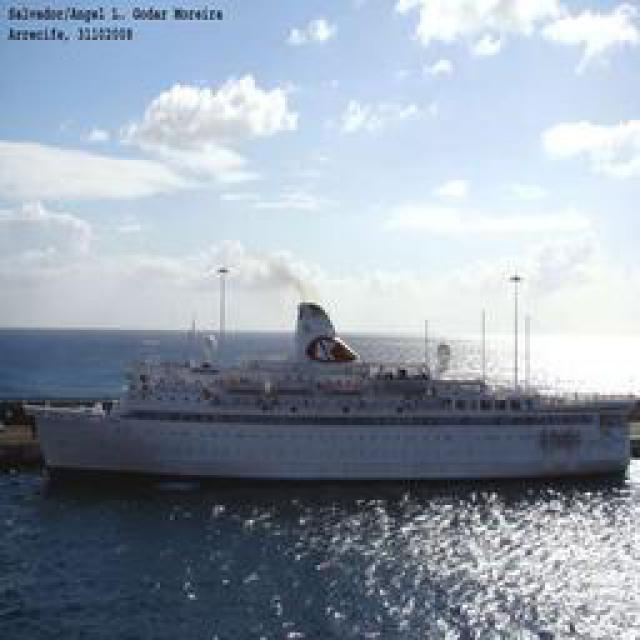Ship: (19, 341, 634, 486)
